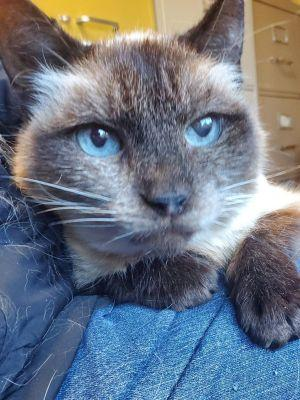siamese: (1, 1, 278, 272)
